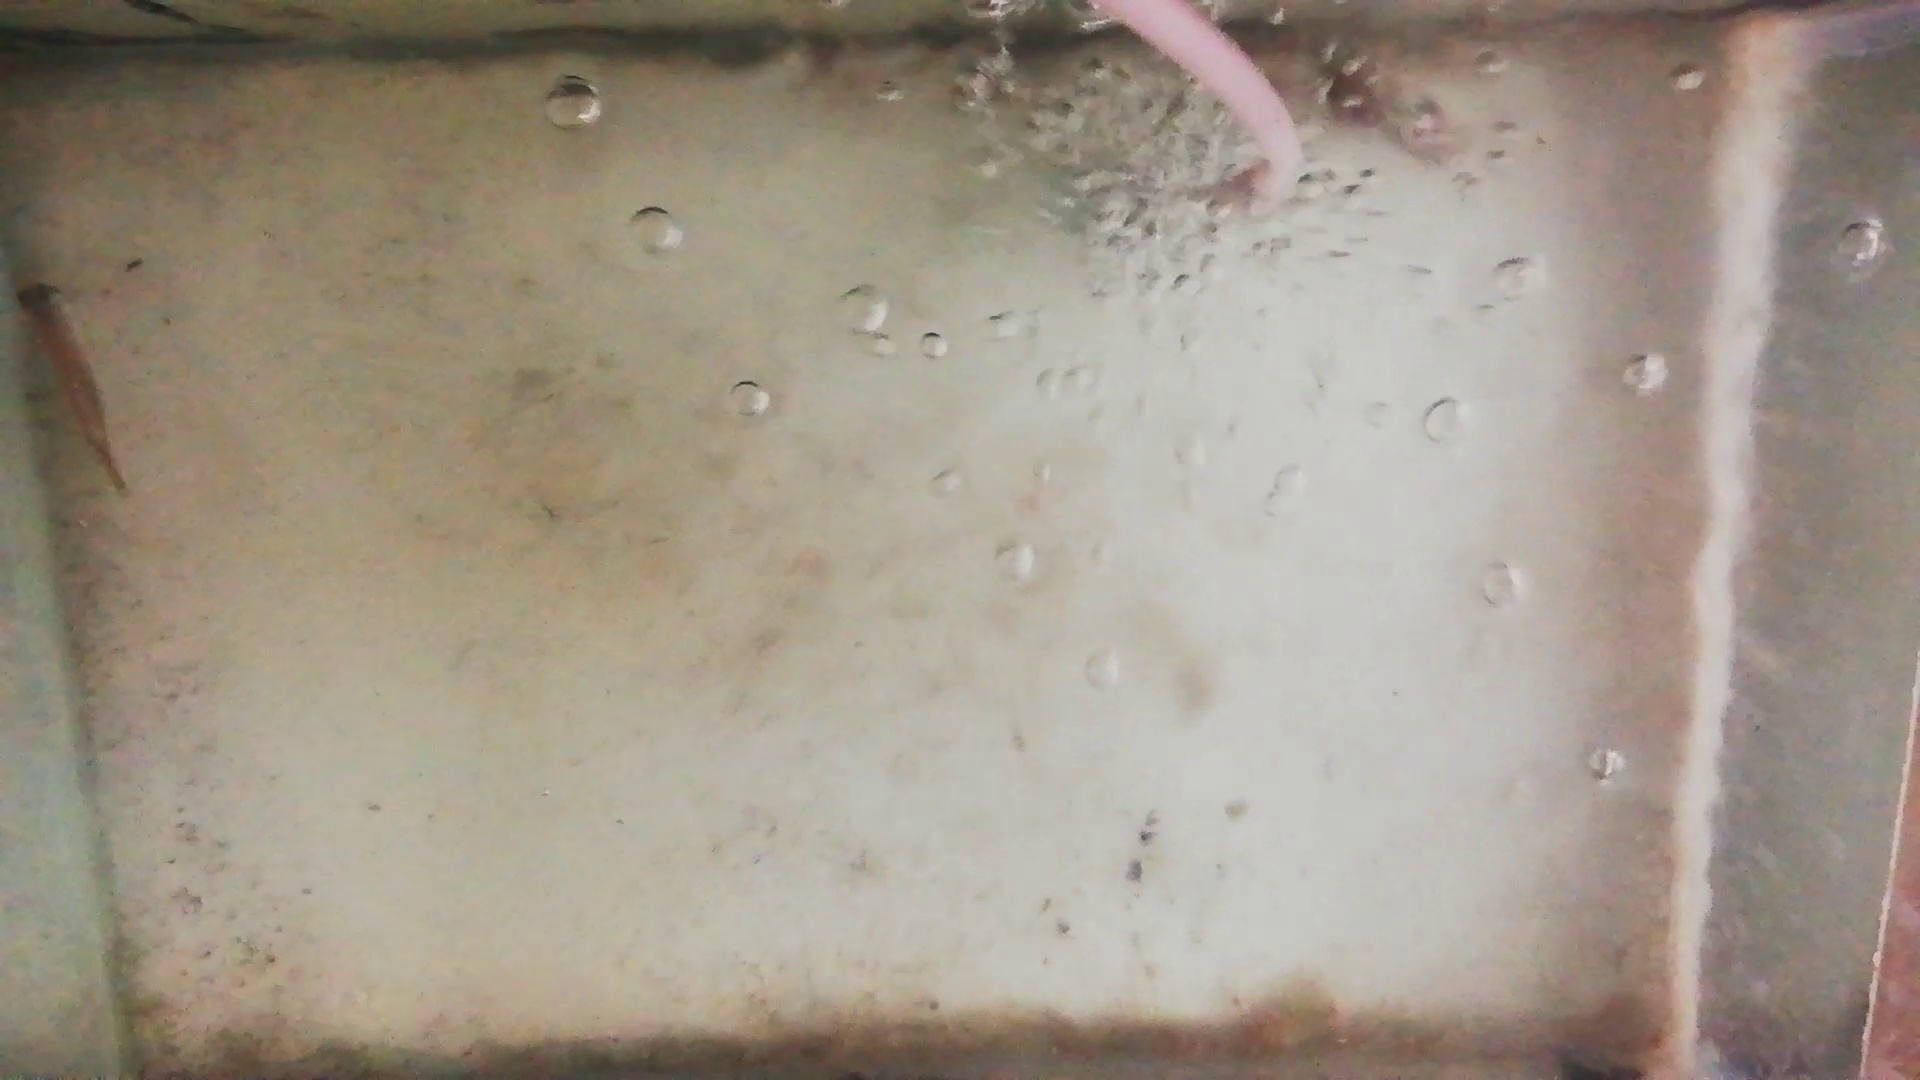fish: (20, 274, 136, 500), (1313, 57, 1449, 164)
